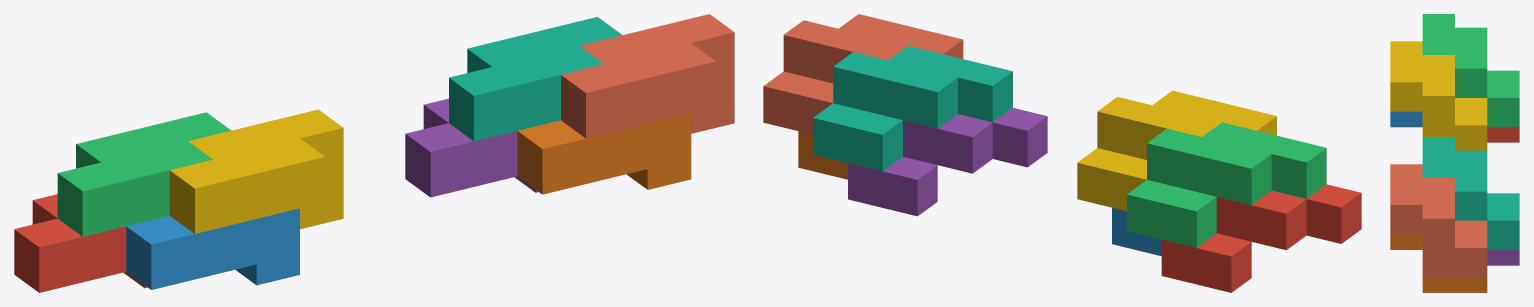
File: tiling.obj
3 renders of one model, left to right at view 1: azimuth 30°, elevation 25°; view 2: azimuth 150°, elevation 25°; view 3: azimuth 270°, elevation 25°, orthographic. The views are drawn at different scales.
Visible parts, largest first — view 1: copy_1_domain_4, copy_1_domain_8, copy_1_domain_3, copy_1_domain_7, copy_1_domain_6, copy_1_domain_2, copy_1_domain_5, copy_1_domain_1; view 2: copy_1_domain_7, copy_1_domain_3, copy_1_domain_1, copy_1_domain_5, copy_1_domain_8, copy_1_domain_4, copy_1_domain_6, copy_1_domain_2; view 3: copy_1_domain_8, copy_1_domain_4, copy_1_domain_3, copy_1_domain_7, copy_1_domain_6, copy_1_domain_2, copy_1_domain_1, copy_1_domain_5.
Part boxes in pixels (x1,y1,x2,y2): copy_1_domain_4: [169, 109, 343, 233]; copy_1_domain_8: [561, 14, 734, 138]; copy_1_domain_3: [57, 112, 230, 236]; copy_1_domain_7: [449, 17, 622, 141]; copy_1_domain_6: [517, 113, 691, 194]; copy_1_domain_2: [126, 208, 299, 289]; copy_1_domain_5: [405, 98, 538, 197]; copy_1_domain_1: [14, 194, 147, 292]; copy_1_domain_7: [813, 46, 1012, 171]; copy_1_domain_3: [1127, 122, 1326, 247]; copy_1_domain_1: [1161, 184, 1361, 292]; copy_1_domain_5: [848, 108, 1047, 216]; copy_1_domain_8: [763, 14, 963, 134]; copy_1_domain_4: [1077, 90, 1276, 211]; copy_1_domain_6: [798, 131, 847, 179]; copy_1_domain_2: [1112, 208, 1161, 256]; copy_1_domain_8: [1390, 164, 1487, 277]; copy_1_domain_4: [1390, 41, 1487, 150]; copy_1_domain_3: [1422, 14, 1519, 127]; copy_1_domain_7: [1422, 137, 1519, 249]; copy_1_domain_6: [1390, 234, 1487, 292]; copy_1_domain_2: [1390, 111, 1422, 127]; copy_1_domain_1: [1487, 127, 1519, 142]; copy_1_domain_5: [1487, 250, 1519, 265].
Bounding box in the file's own units: 16 × 3 × 4.
